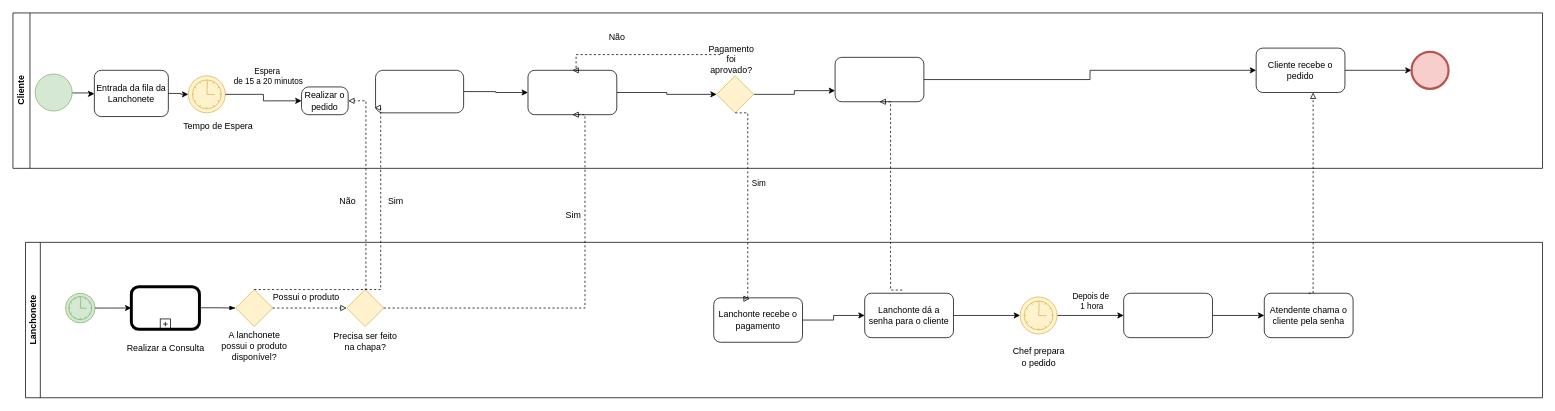
This 1555x411 diagram has some shape labels left out. The centre of each missing label's shape, as x and y in pixels:
Chef manda a comida para o atendente: (1167,315)
Cliente recebe a senha: (879,79)
Cliente seleciona a forma de pagamento: (572,92)
Lanchonete informa ao cliente que possui o produto: (419,91)
